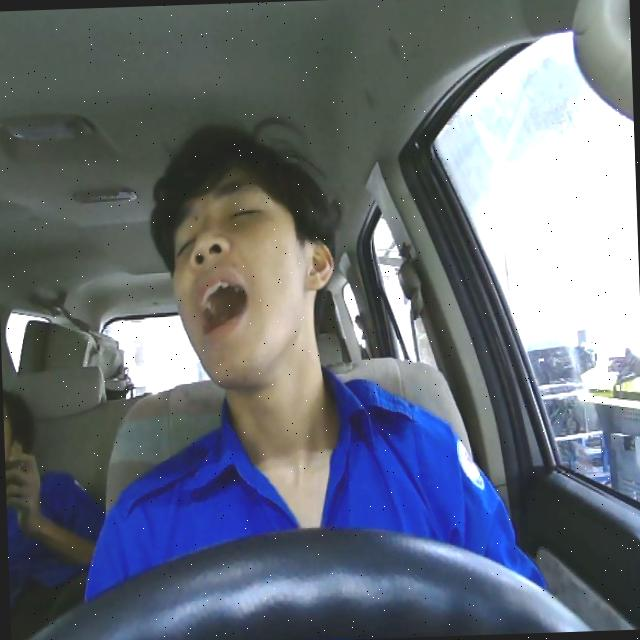yarning: (163, 158, 338, 388)
